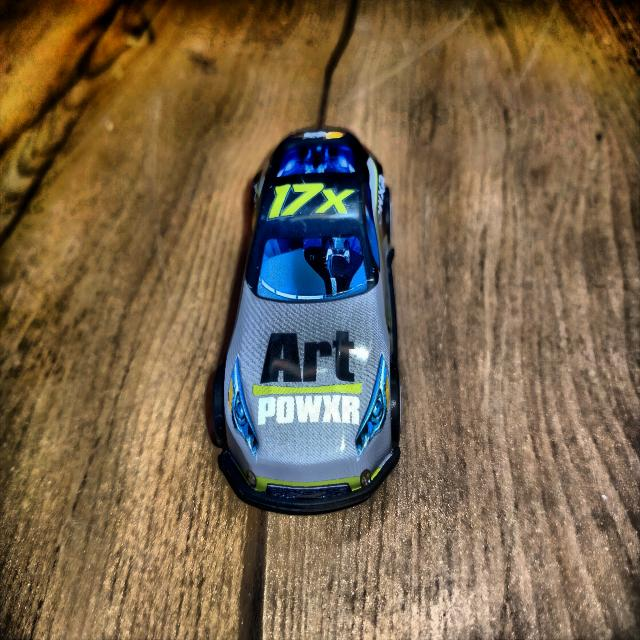Car: (213, 130, 400, 513)
